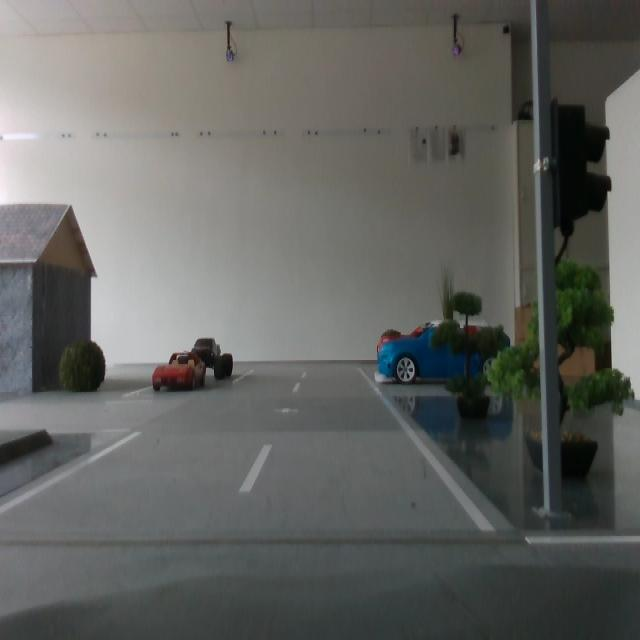car: (377, 320, 511, 385), (379, 321, 513, 383), (152, 351, 210, 392), (184, 337, 236, 382)
potted plant: (484, 256, 635, 476), (432, 291, 507, 422), (58, 340, 108, 396), (439, 269, 458, 360), (379, 327, 409, 366)
traffic light: (551, 98, 612, 237)
